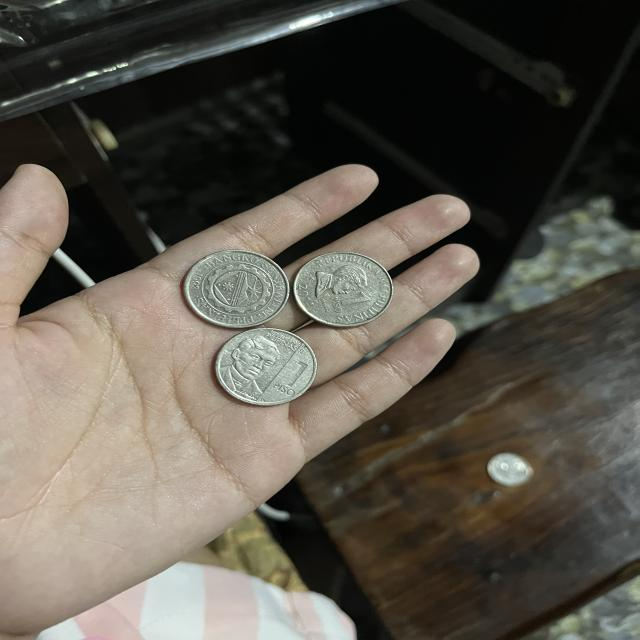1_New_Front: (225, 334, 306, 398)
1_Old_Back: (193, 259, 276, 320)
1_Old_Front: (310, 265, 376, 312)
